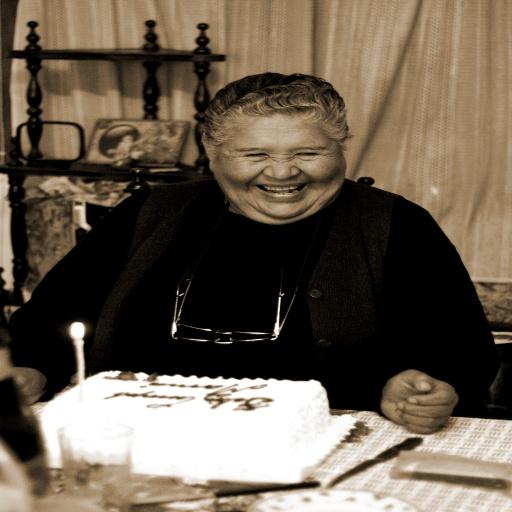hand: (378, 365, 471, 431), (0, 365, 46, 406)
